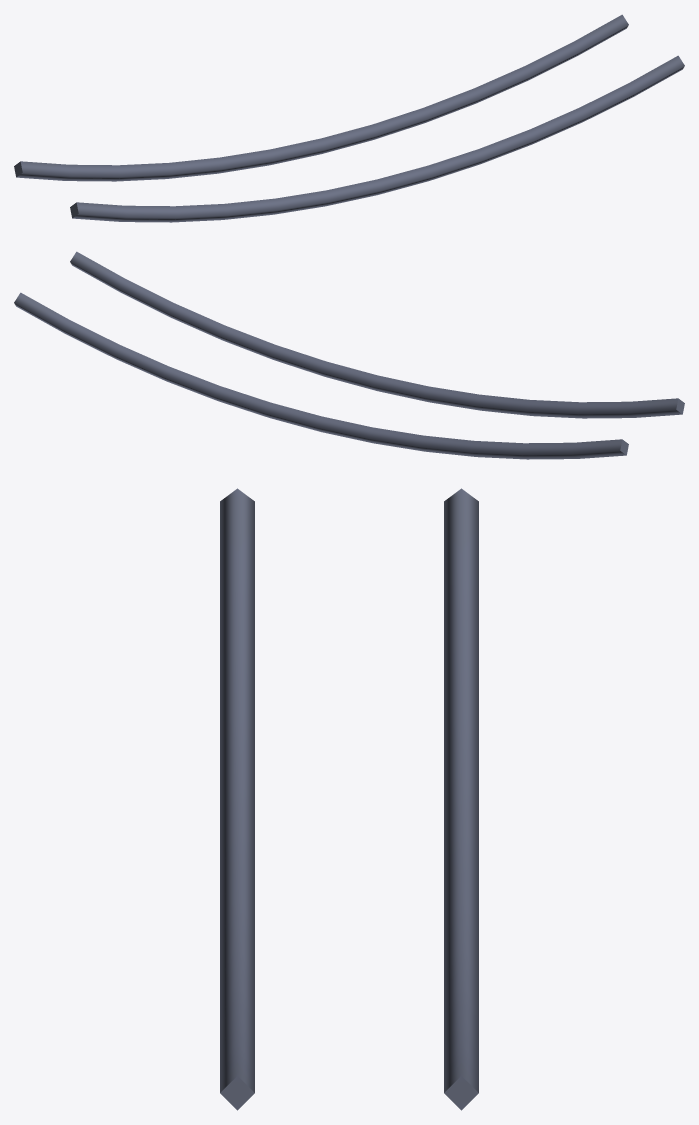
Rendered from electricity-wires-wide.glb.
The picture shows the model from 3 angles, top to bottom: view 1: azimuth 30°, elevation 25°; view 2: azimuth 150°, elevation 25°; view 3: azimuth 270°, elevation 25°; orthographic projection. The views are drawn at different scales.
Visible parts, largest first — view 1: electricity-wires-wide; view 2: electricity-wires-wide; view 3: electricity-wires-wide.
Boxes of the visible parts, x1,y1,x2,y2 form: electricity-wires-wide: (14,14,684,222); electricity-wires-wide: (14,251,684,459); electricity-wires-wide: (220,488,478,1110).
Size of the model in its own units: 1.01 by 0.1045 by 0.185.
Materials: 1 (1 with a texture image).
